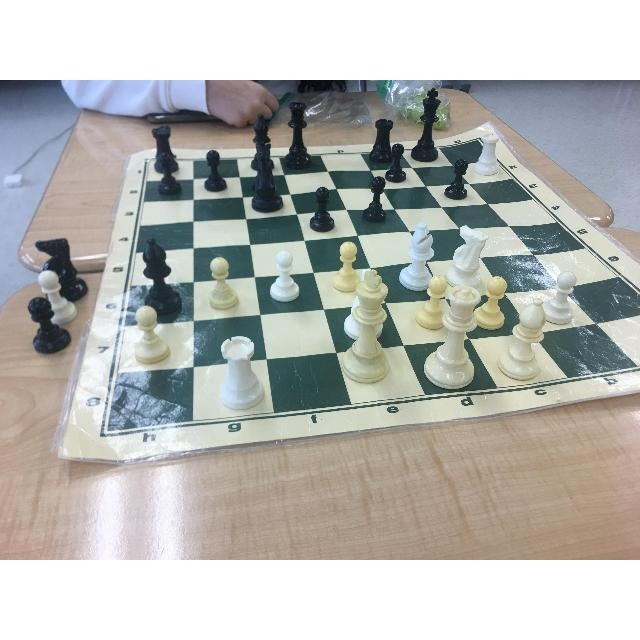black-bishop: (128, 230, 180, 314), (248, 118, 281, 160)
black-knight: (249, 145, 280, 203)
black-pawn: (195, 147, 231, 189), (359, 171, 388, 221), (305, 182, 335, 229), (387, 140, 411, 182), (446, 153, 467, 193), (158, 156, 178, 189)
black-queen: (289, 102, 315, 165)
black-rook: (150, 126, 184, 164), (368, 113, 393, 159)
white-bishop: (512, 296, 549, 390), (402, 220, 432, 284)
white-king: (350, 265, 389, 394)
white-knight: (440, 216, 484, 279)
white-pawn: (195, 249, 247, 312), (129, 304, 171, 364), (260, 242, 301, 298), (548, 271, 586, 323), (479, 275, 510, 331), (421, 274, 449, 330), (331, 242, 362, 286)
white-queen: (442, 283, 480, 399)
white-rook: (213, 331, 265, 410), (418, 83, 444, 166), (476, 130, 504, 174)
